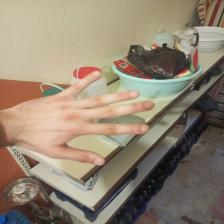five: (9, 70, 161, 169)
